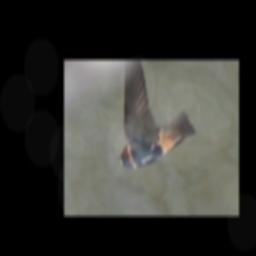Swallow: (117, 60, 197, 173)
